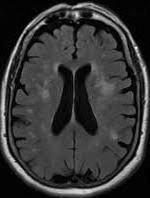Normal_Brain: (8, 5, 150, 198)
